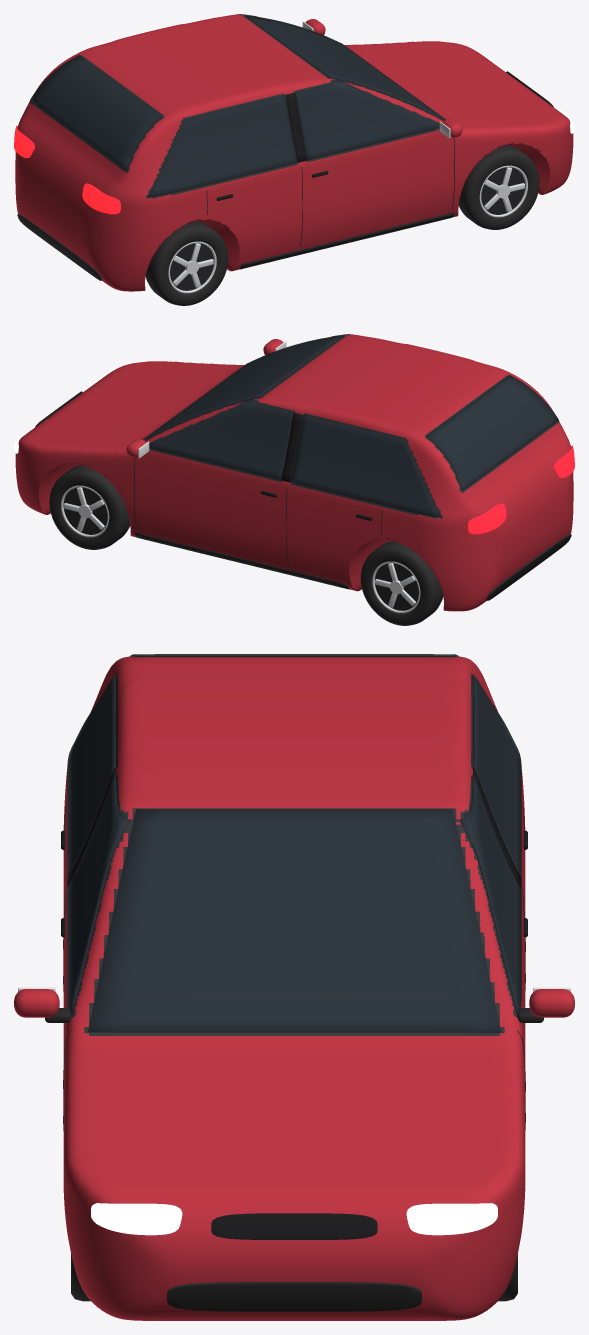
File: hatch-generico.glb
3 renders of one model, top to bottom at view 1: azimuth 30°, elevation 25°; view 2: azimuth 150°, elevation 25°; view 3: azimuth 270°, elevation 25°, orthographic. The views are drawn at different scales.
Visible parts, largest first — view 1: shell, glass_side_rear.001, rear_glass, glass_side_front.001, windshield, wheel_rr_tire, wheel_fr_tire, side_skirt.001, wheel_rr_rim, wheel_fr_rim, rear_diffuser, b_pillar.001 (+4 smaller); view 2: shell, glass_side_rear, rear_glass, glass_side_front, windshield, wheel_rl_tire, wheel_fl_tire, side_skirt, wheel_rl_rim, wheel_fl_rim, rear_diffuser, taillight_l (+4 smaller); view 3: shell, windshield, intake, glass_side_rear, glass_side_rear.001, glass_side_front.001, glass_side_front, grille, headlight_r, headlight_l, dashboard, mirror_l (+2 smaller).
Part boxes in pixels (box(x1,y1,x2,y2)): shell: box(15, 14, 573, 291); glass_side_rear.001: box(147, 95, 297, 197); rear_glass: box(30, 55, 162, 170); glass_side_front.001: box(295, 79, 439, 160); windshield: box(244, 15, 445, 120); wheel_rr_tire: box(145, 221, 228, 305); wheel_fr_tire: box(458, 145, 539, 229); side_skirt.001: box(240, 212, 453, 269); wheel_rr_rim: box(170, 243, 213, 290); wheel_fr_rim: box(481, 167, 525, 214); rear_diffuser: box(17, 214, 101, 280); b_pillar.001: box(285, 92, 307, 162); shell: box(15, 334, 573, 611); glass_side_rear: box(291, 415, 441, 517); rear_glass: box(426, 375, 558, 490); glass_side_front: box(149, 399, 293, 480); windshield: box(143, 335, 344, 440); wheel_rl_tire: box(360, 541, 443, 625); wheel_fl_tire: box(49, 465, 130, 549); side_skirt: box(134, 532, 349, 589); wheel_rl_rim: box(375, 563, 418, 610); wheel_fl_rim: box(63, 487, 107, 534); rear_diffuser: box(486, 534, 571, 600); taillight_l: box(468, 503, 506, 534); shell: box(63, 656, 525, 1320); windshield: box(88, 809, 500, 1032); intake: box(166, 1282, 421, 1311); glass_side_rear: box(472, 675, 521, 877); glass_side_rear.001: box(67, 675, 116, 877); glass_side_front.001: box(67, 777, 129, 1014); glass_side_front: box(460, 777, 521, 1014); grille: box(211, 1213, 377, 1239); headlight_r: box(91, 1203, 182, 1235); headlight_l: box(406, 1203, 497, 1235); dashboard: box(140, 992, 448, 999); mirror_l: box(529, 989, 574, 1017).
Bounding box in the file's own units: 3.91 × 1.44 × 2.09.
